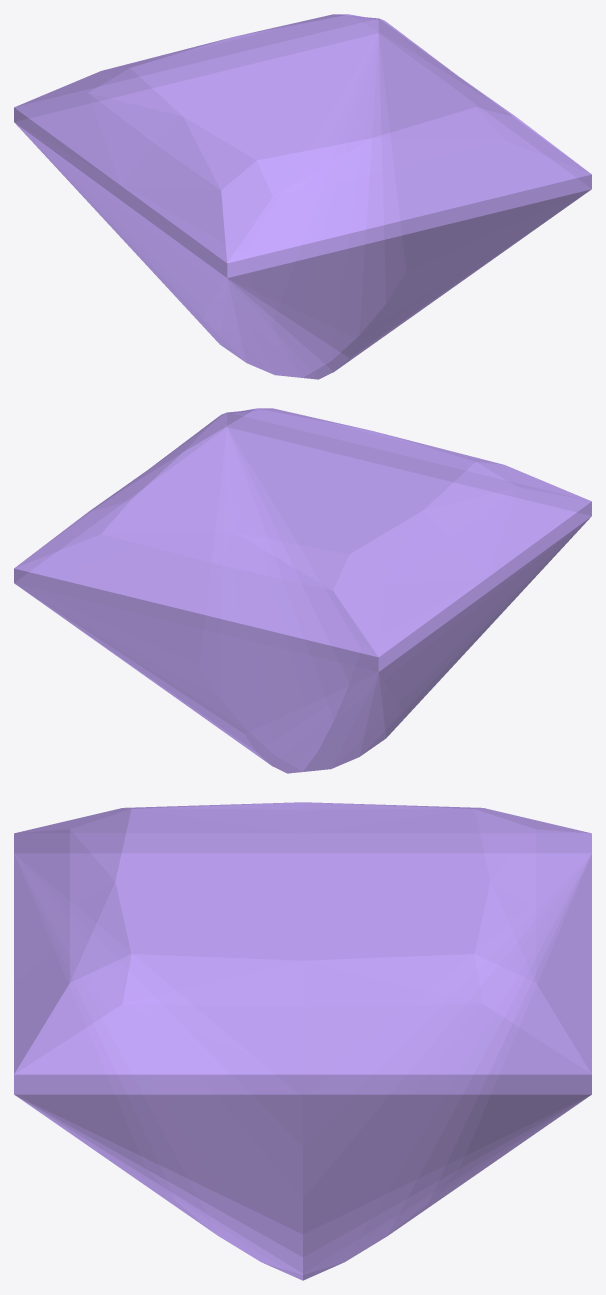
The model's file is princess ametiste.glb.
The picture shows the model from 3 angles, top to bottom: view 1: azimuth 30°, elevation 25°; view 2: azimuth 150°, elevation 25°; view 3: azimuth 270°, elevation 25°; orthographic projection. The views are drawn at different scales.
Parts seen in each view (by area): view 1: Princess; view 2: Princess; view 3: Princess.
Boxes of the visible parts, x1,y1,x2,y2 form: Princess: [14, 14, 591, 379]; Princess: [14, 408, 591, 773]; Princess: [14, 802, 591, 1280].
Bounding box in the file's own units: 1.38 × 1.05 × 1.4.
